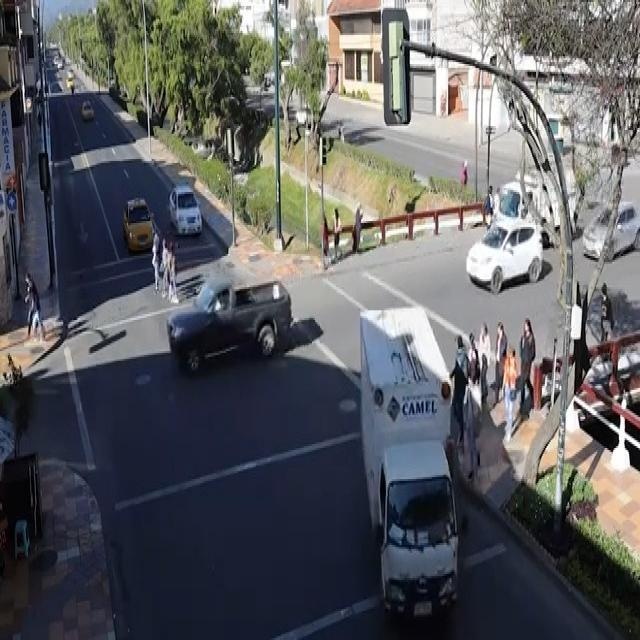CMT: (170, 272, 291, 367)
TRUCK: (349, 304, 462, 616)
